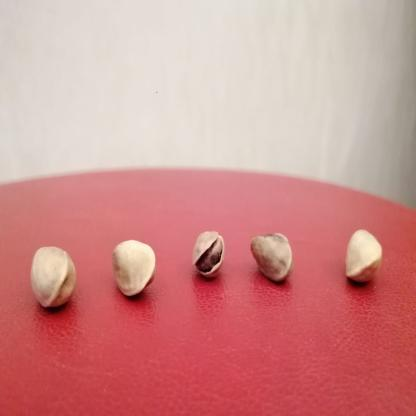pistachio: (28, 242, 84, 314), (108, 235, 163, 300), (340, 222, 387, 284), (249, 227, 297, 286), (188, 227, 230, 280)
